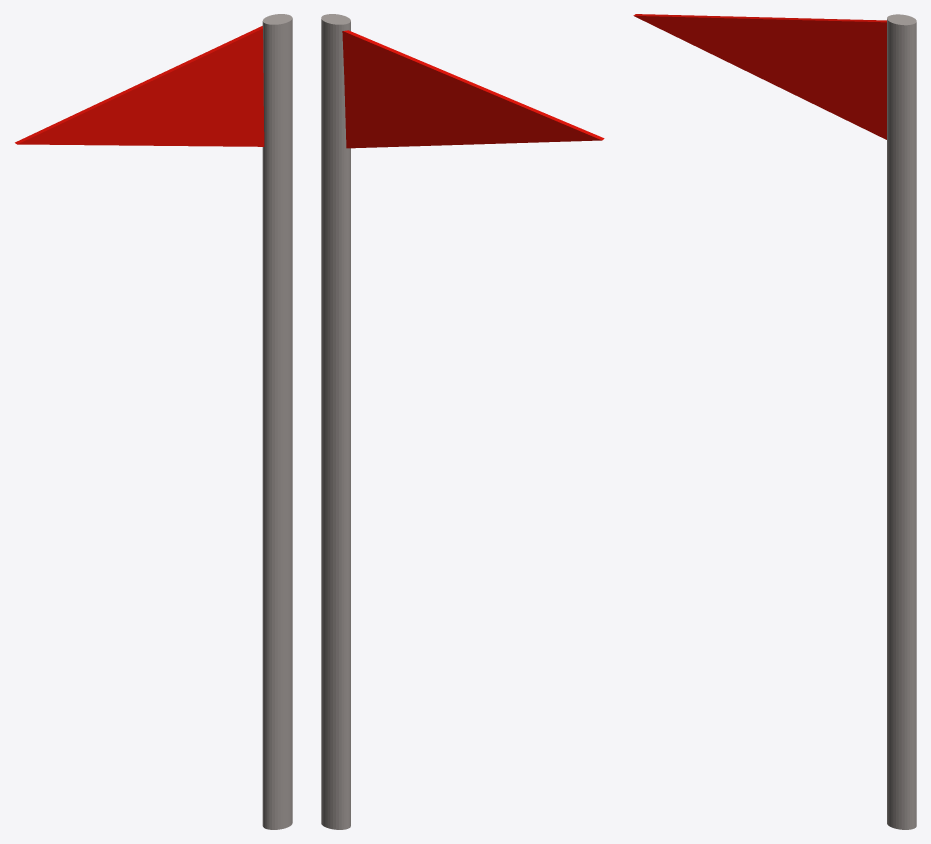
The model's file is Flag.fbx.
The picture shows the model from 3 angles, left to right: view 1: azimuth 30°, elevation 25°; view 2: azimuth 150°, elevation 25°; view 3: azimuth 330°, elevation 25°; orthographic projection.
Parts seen in each view (by area): view 1: Cylinder.001, Plane; view 2: Cylinder.001, Plane; view 3: Cylinder.001, Plane.
Part boxes in pixels (x1,y1,x2,y2): Cylinder.001: [262, 14, 292, 829]; Plane: [15, 26, 264, 146]; Cylinder.001: [321, 14, 350, 829]; Plane: [342, 30, 604, 148]; Cylinder.001: [887, 14, 916, 829]; Plane: [633, 14, 886, 139].
Size of the model in its own units: 1812 by 5007 by 131.
